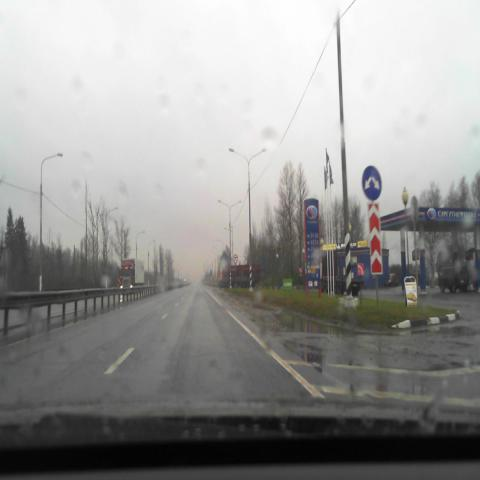4_2_3: (362, 166, 381, 201)
